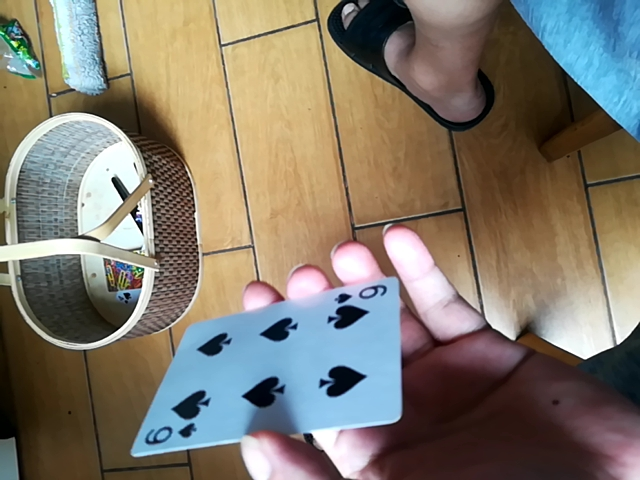ht 6: (141, 243, 413, 456)
